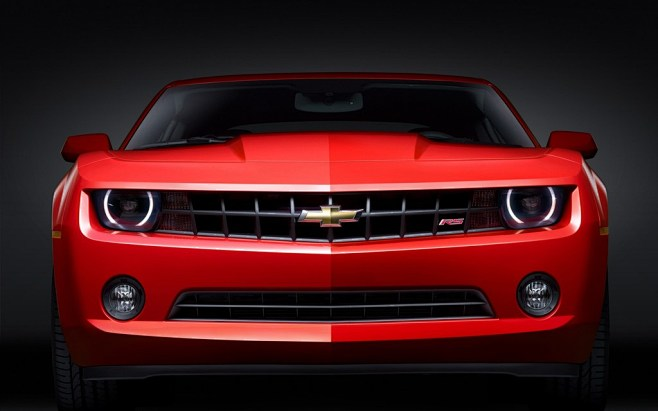other: (51, 64, 603, 411)
